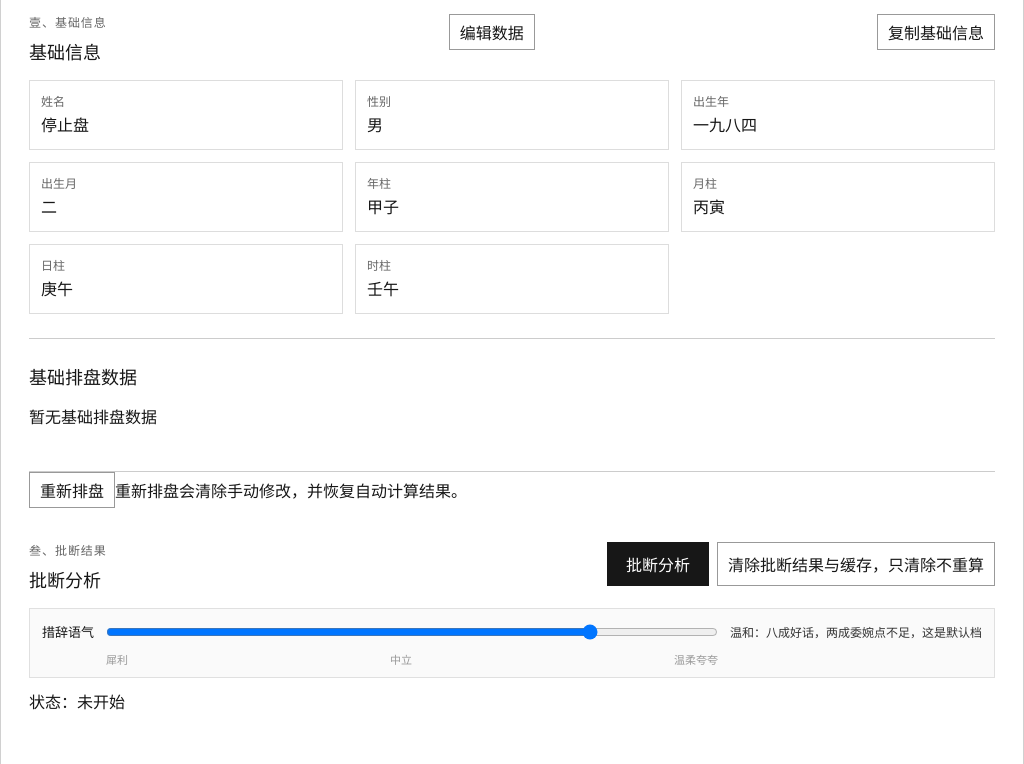
Test case: 详情页「立即停止」之后的收尾状态 › 停止后界面回到可用态：主按钮不再 disabled、文案不再是「分析中」
(page scrolled)
Click the button "批断分析".
click(658, 564)  # box [607,542,709,586]
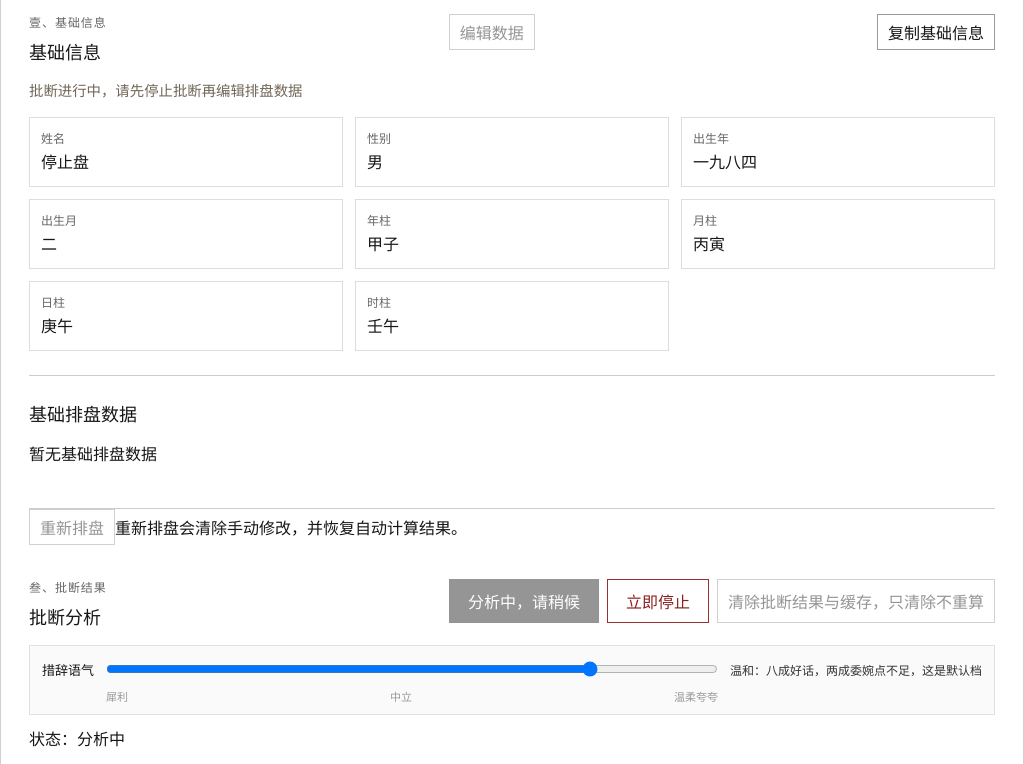
Click the button "立即停止".
click(658, 601)  # box [607,579,709,623]
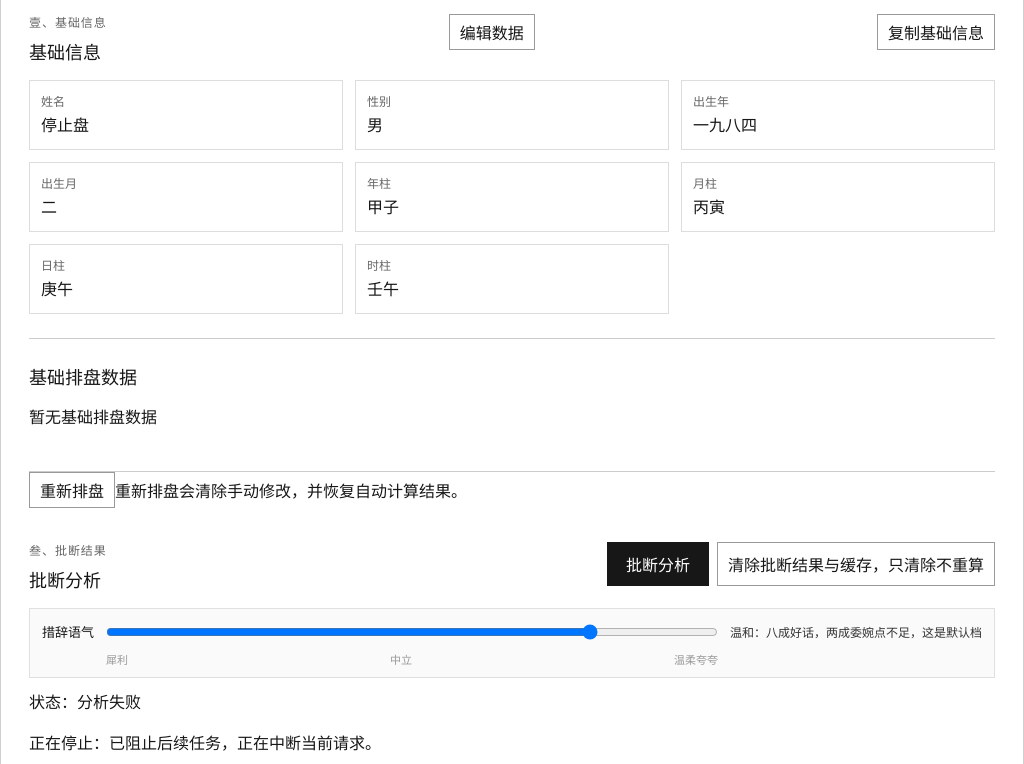
Expected: the button "批断分析" is enabled, [607,542,709,586]
Expected: the button "批断分析" is shown, [607,542,709,586]
Expected: the text "状态：分析中" is gone
